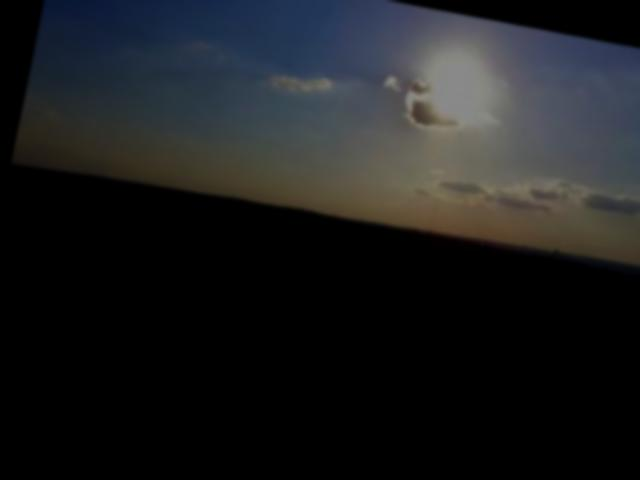uav: (212, 212, 286, 252)
